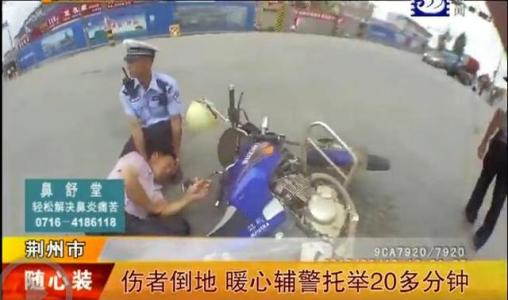fall: (95, 142, 212, 243)
